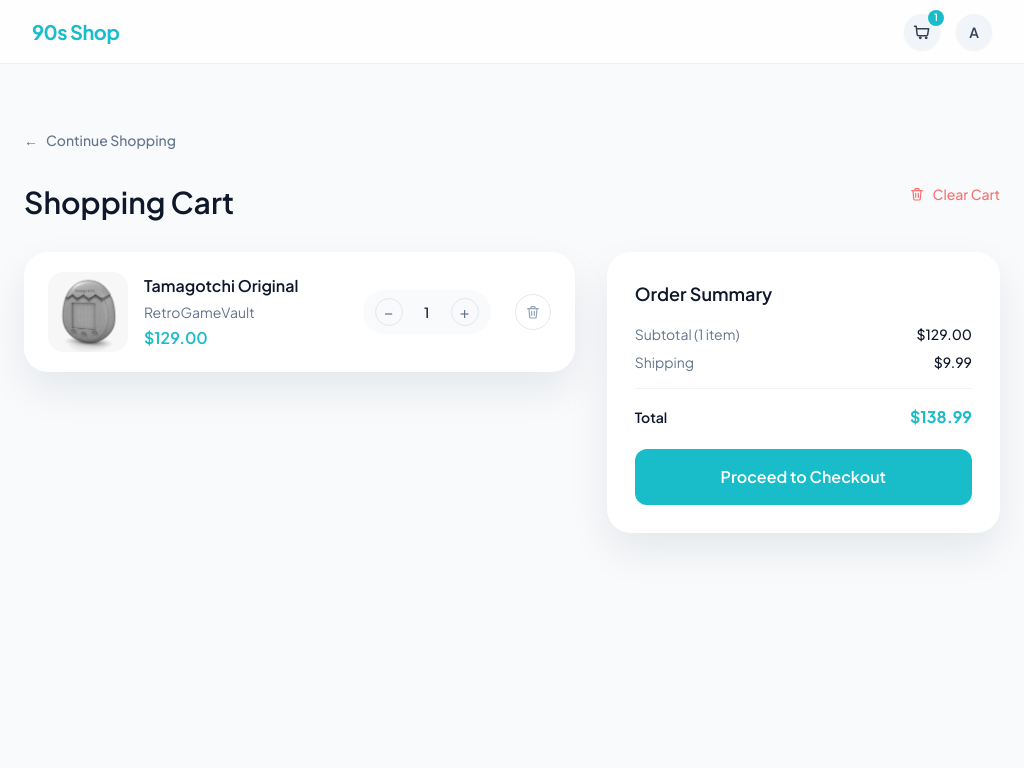
Test: Cart page - integration › should clear all items when Clear Cart is clicked
The width and height of the screenshot is (1024, 768).
Click the link named "open cart": (922, 32) [904,14,940,50]
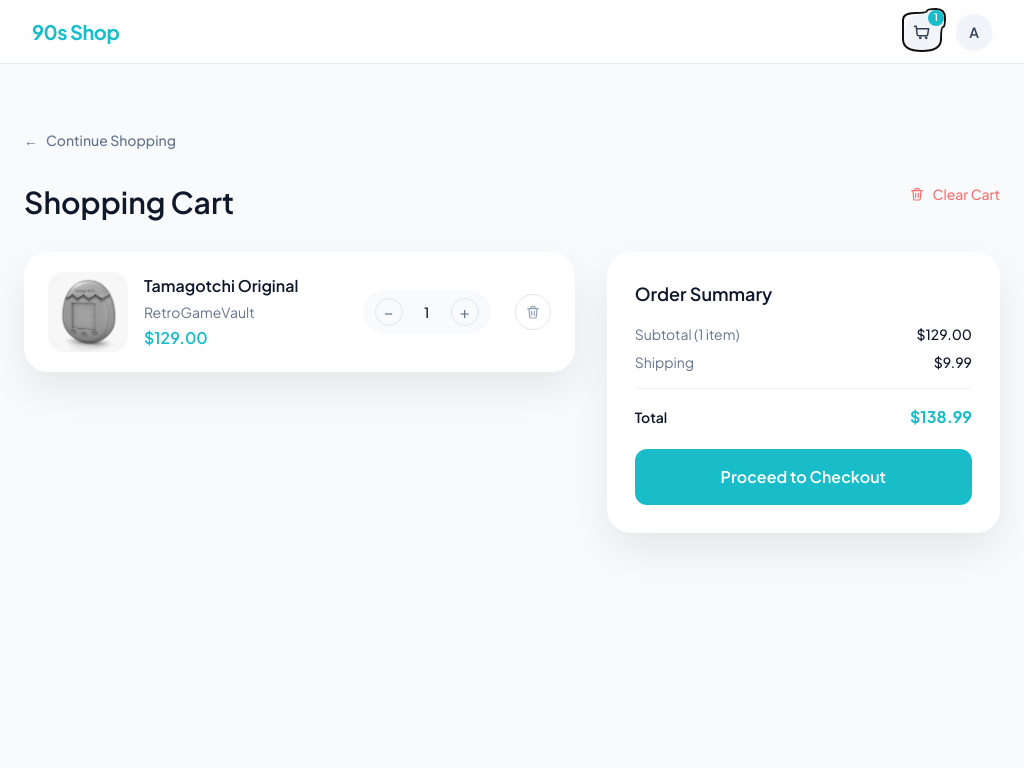
Expected: the heading "Shopping Cart" is shown, [24,184,234,220]
Click the button "Clear Cart": (954, 194) [909,184,1000,204]
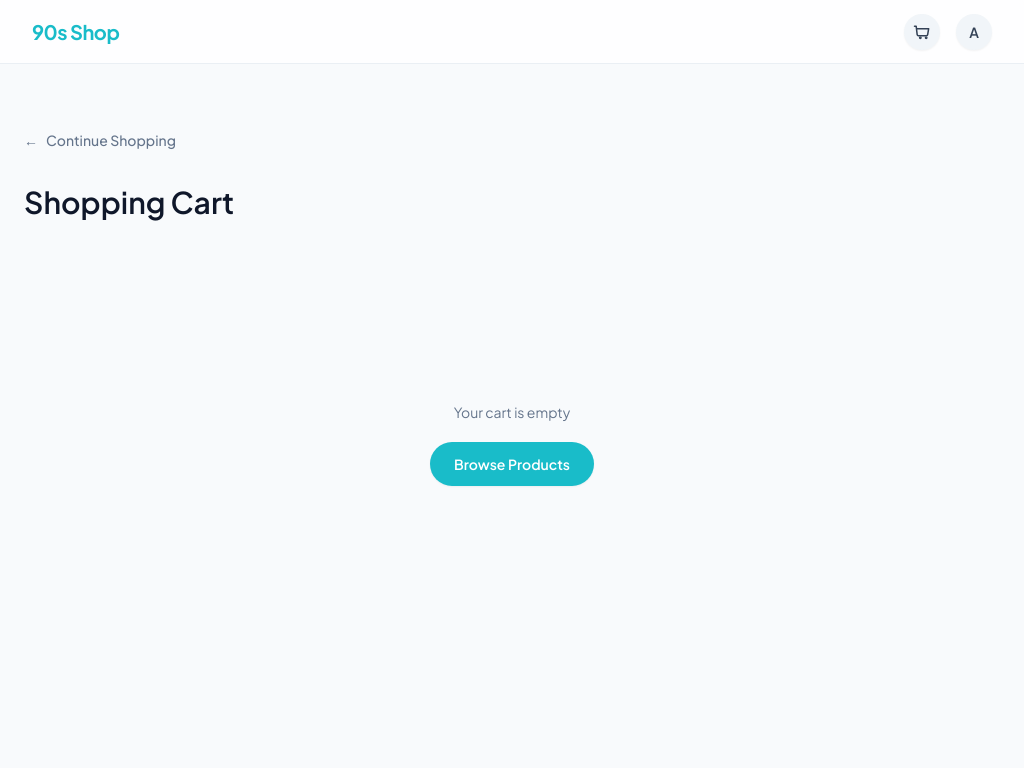
Now the text "Your cart is empty" is shown, box [454,402,570,422]
Now the button "Clear Cart" is gone
